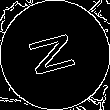N_E: (26, 29, 84, 81)
